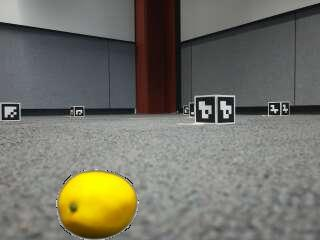lemon: (57, 170, 134, 237)
